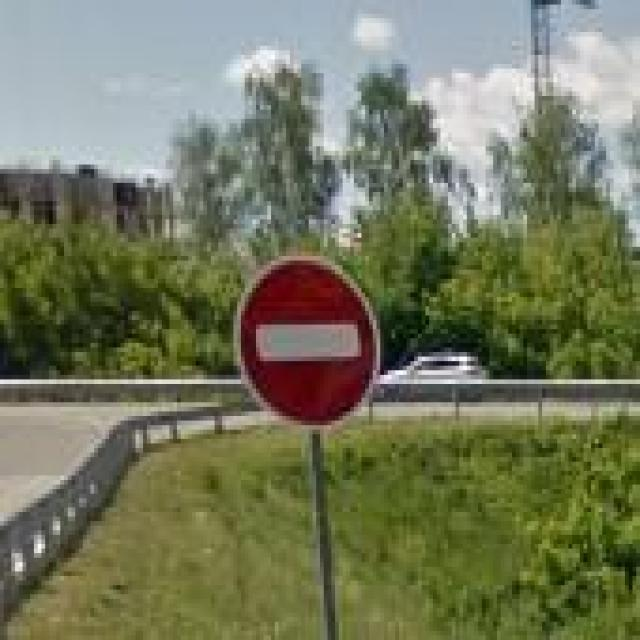do_not_enter: (234, 251, 380, 430)
